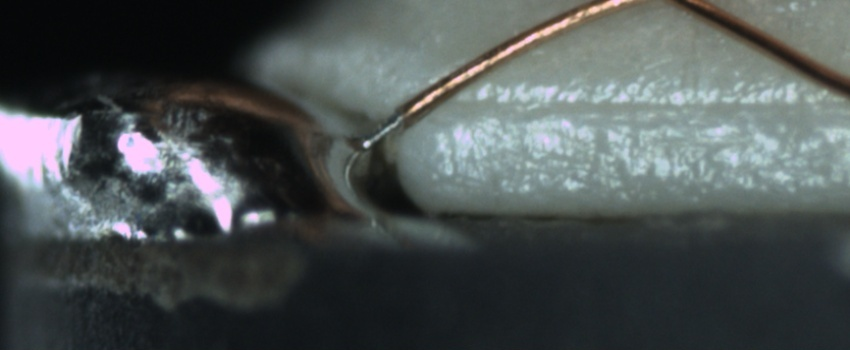DL: (433, 74, 850, 146)
TS: (360, 112, 404, 151)
TTCW: (355, 76, 440, 156)
